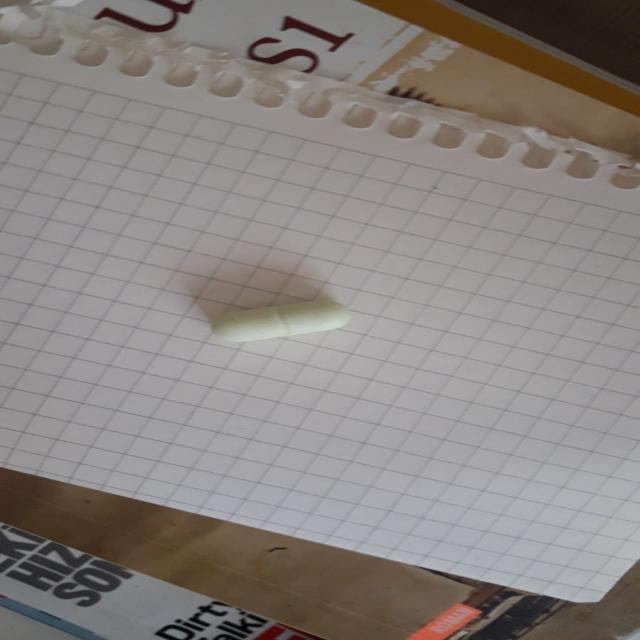pills: (206, 290, 384, 350)
